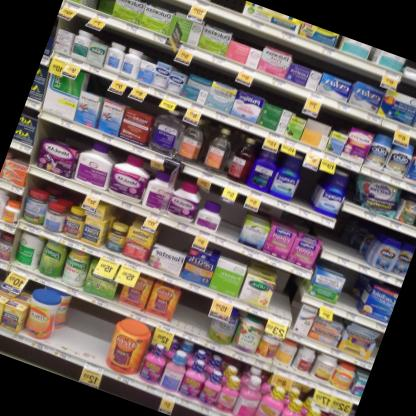empty_space: (72, 303, 119, 362), (47, 293, 91, 353), (171, 289, 215, 336), (292, 154, 328, 210), (213, 190, 251, 242), (268, 270, 308, 318), (325, 210, 361, 259), (346, 218, 382, 265), (367, 331, 384, 362), (209, 0, 246, 13), (405, 59, 416, 74)
